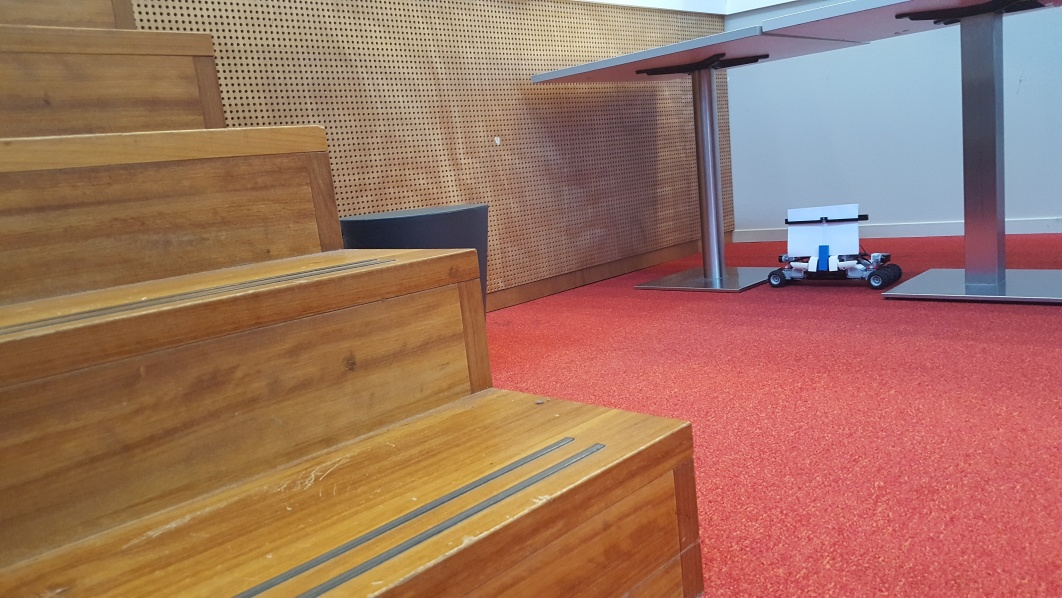car: (769, 204, 903, 288)
